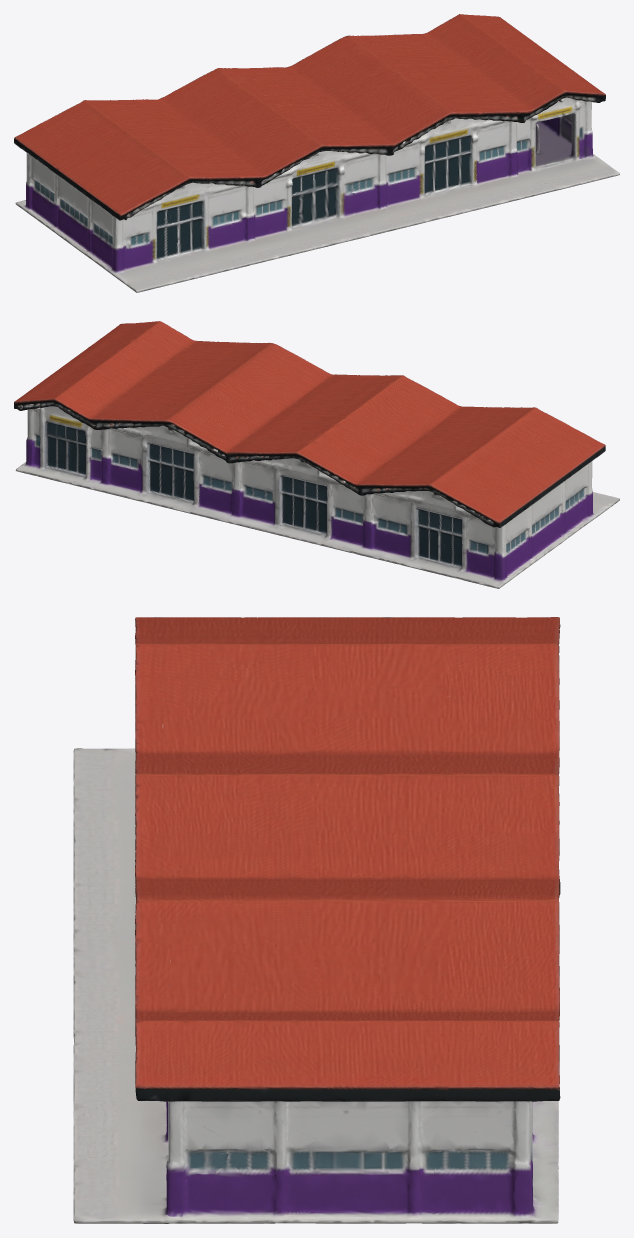
File: bid_29.glb
3 views of the same model, one above another, from view 1: azimuth 30°, elevation 25°; view 2: azimuth 150°, elevation 25°; view 3: azimuth 270°, elevation 25° (orthographic). The views are drawn at different scales.
Bounding box in the file's own units: 1.9 × 0.3316 × 0.8239.
Materials: 1 (1 with a texture image).
